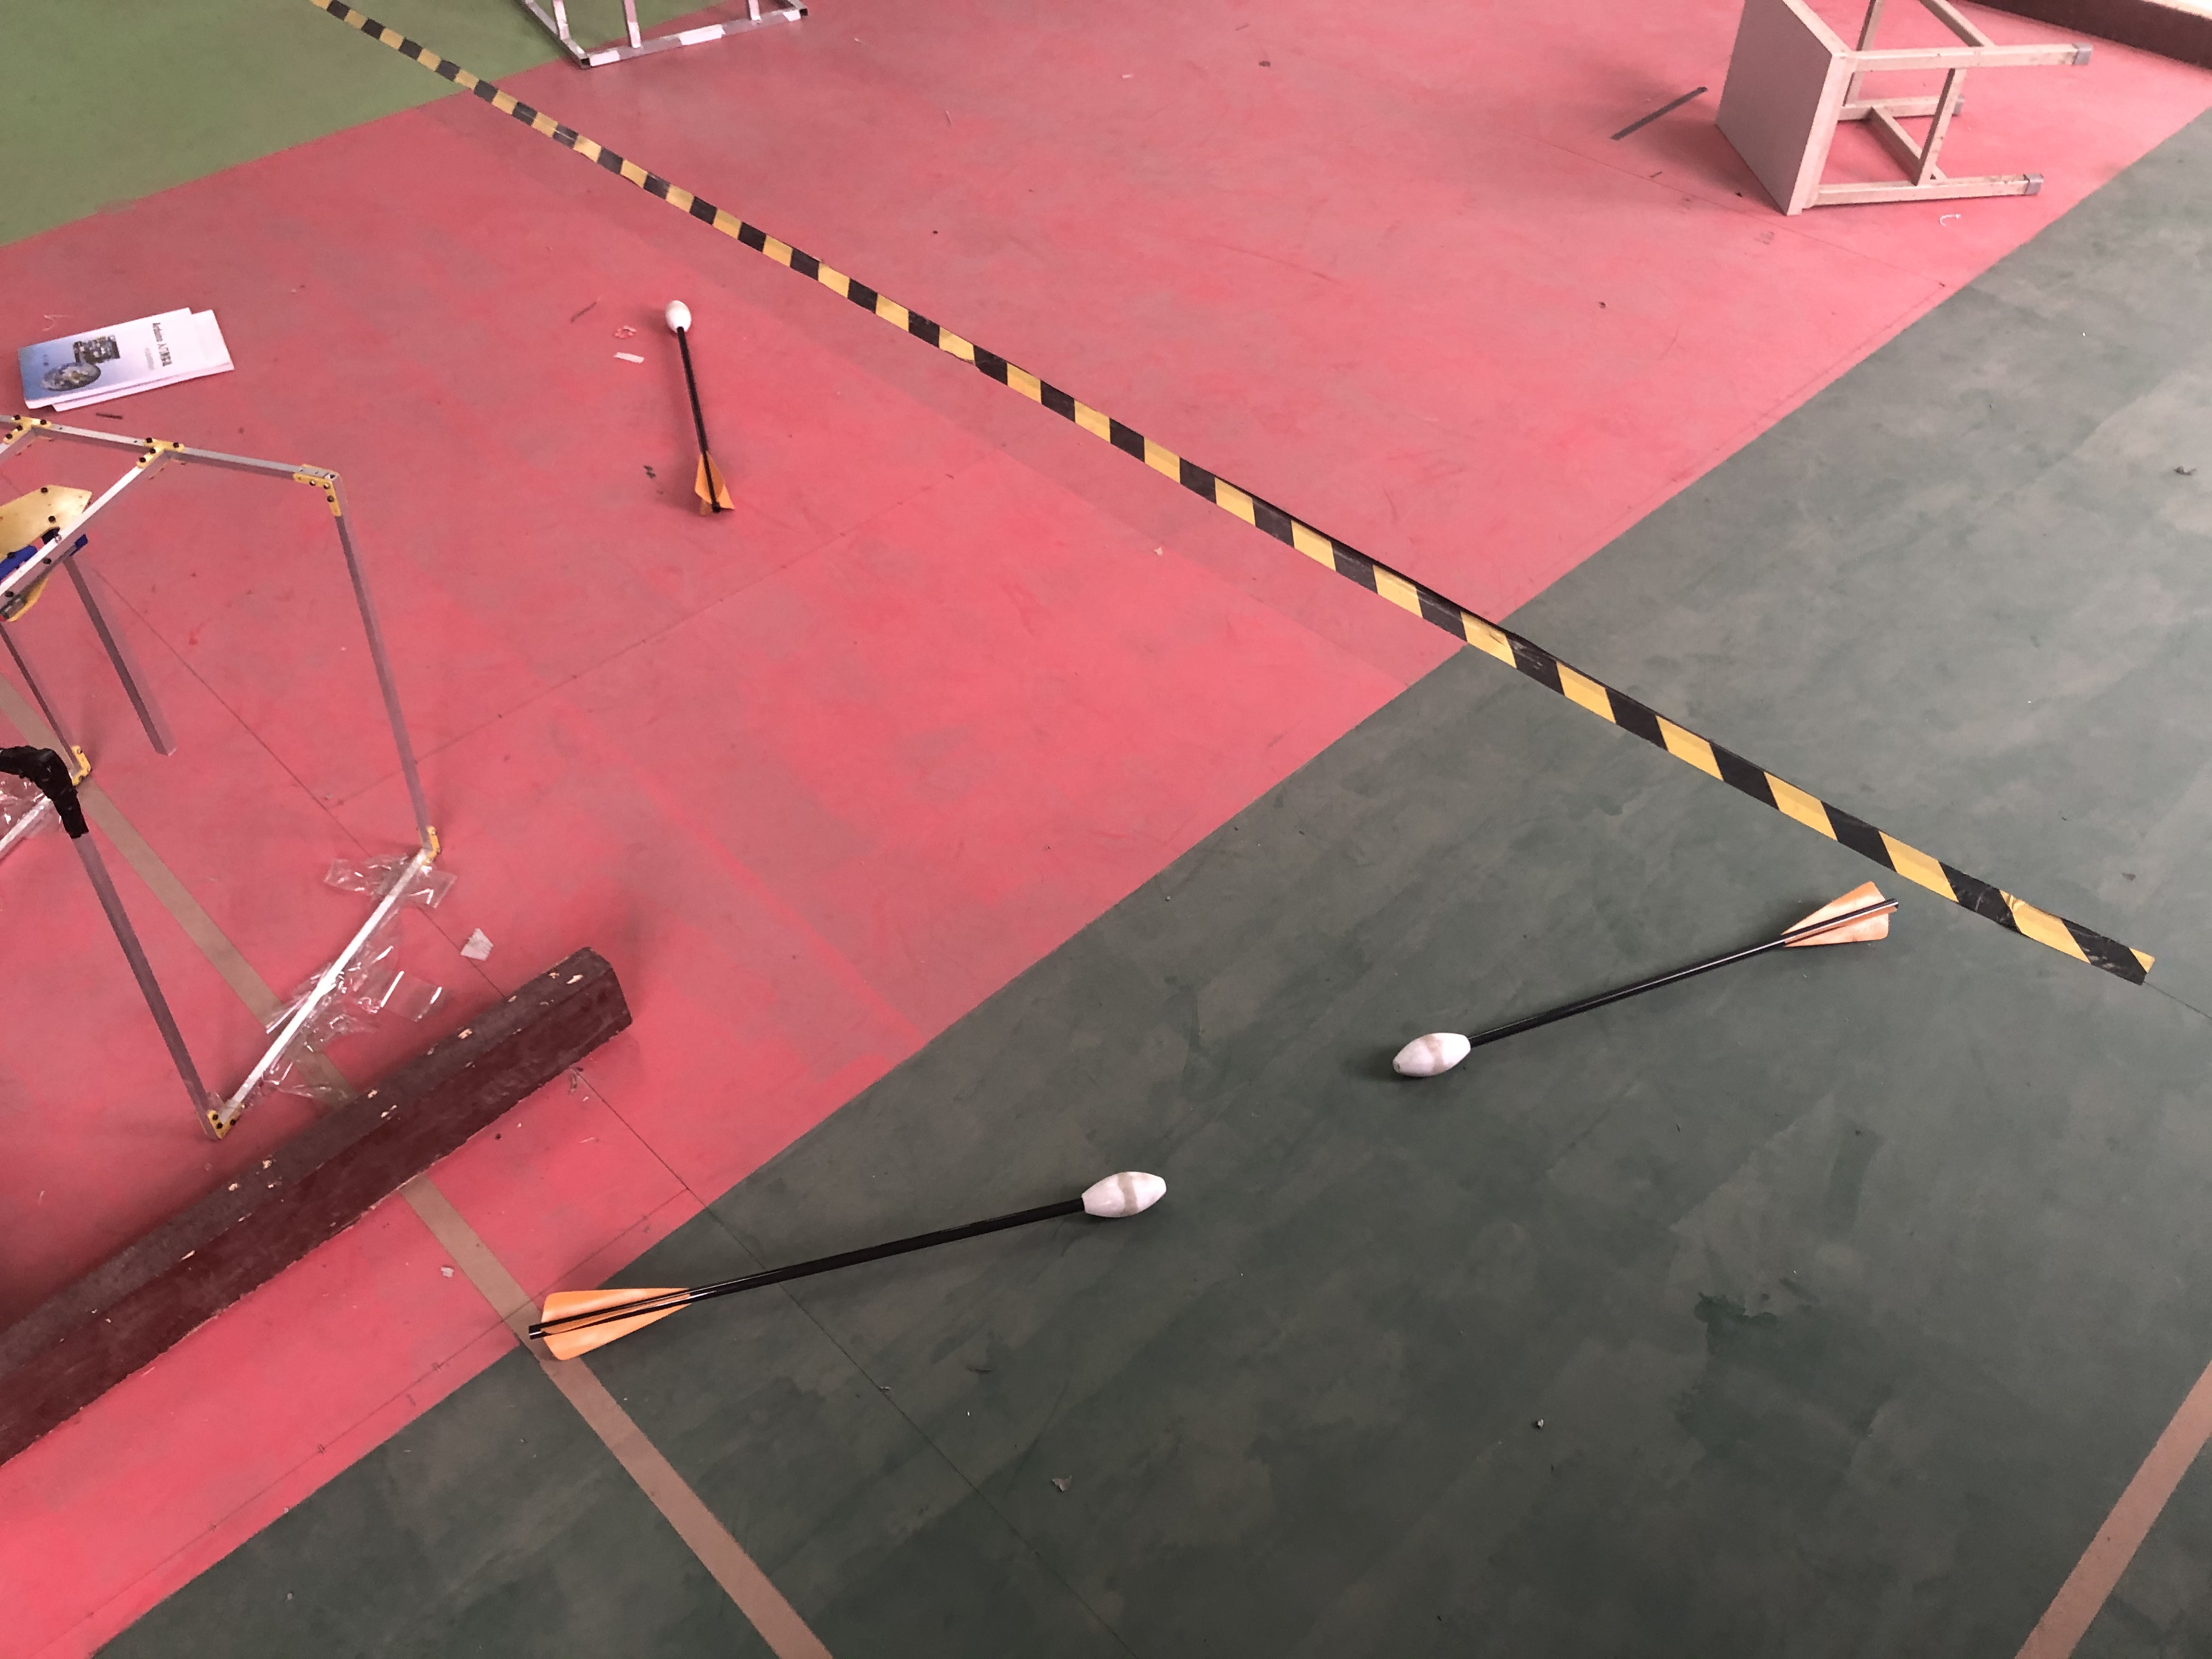arrow: (528, 1171, 1176, 1373), (1392, 880, 1895, 1086), (662, 289, 744, 525)
arrowFront: (1076, 1166, 1172, 1216), (1392, 1026, 1474, 1079), (664, 295, 698, 335)
